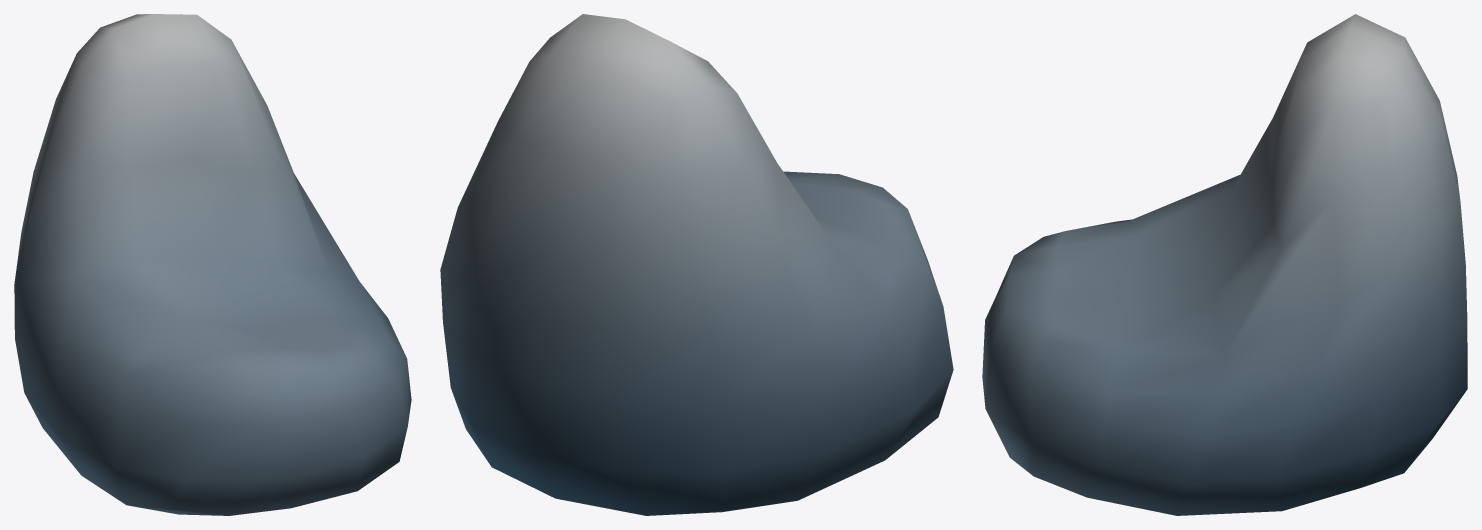
File: Bean_Bag_1.fbx
The picture shows the model from 3 angles, left to right: view 1: azimuth 30°, elevation 25°; view 2: azimuth 150°, elevation 25°; view 3: azimuth 270°, elevation 25°; orthographic projection. The views are drawn at different scales.
Visible parts, largest first — view 1: Bean_Bag_1; view 2: Bean_Bag_1; view 3: Bean_Bag_1.
Part boxes in pixels (bbox=[...]): Bean_Bag_1: bbox=[14, 14, 411, 515]; Bean_Bag_1: bbox=[440, 14, 953, 515]; Bean_Bag_1: bbox=[982, 14, 1467, 515].
Bounding box in the file's own units: 0.9795 × 1.11 × 1.13.
